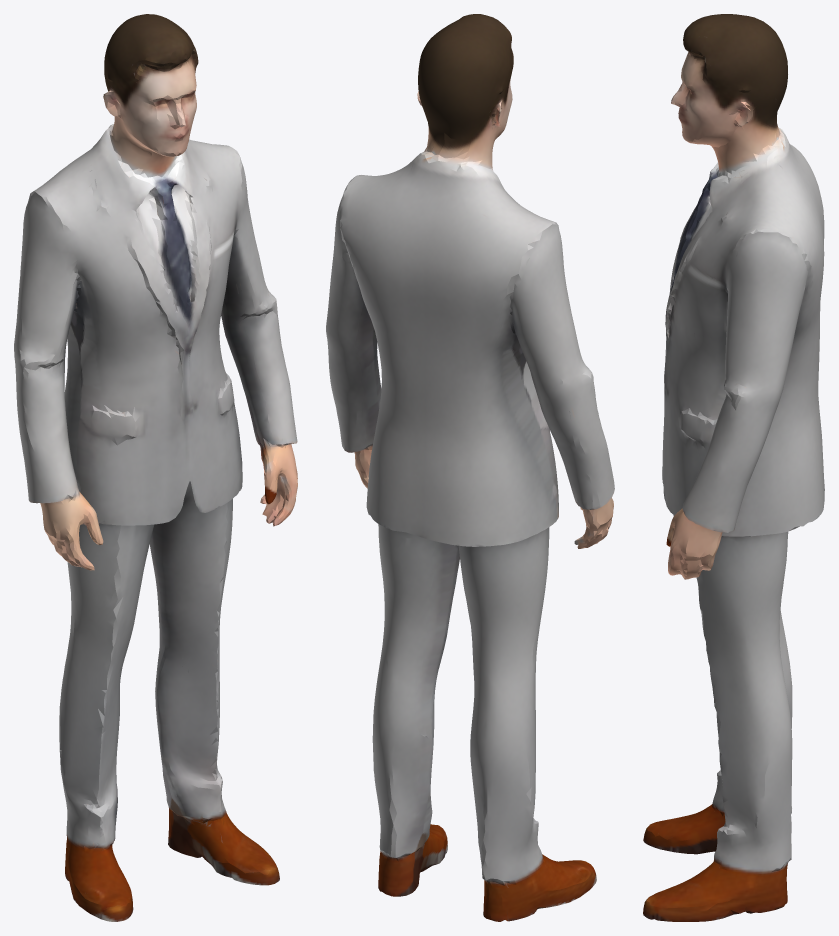
Rendered from spring_upgraded.glb.
3 renders of one model, left to right at view 1: azimuth 30°, elevation 25°; view 2: azimuth 150°, elevation 25°; view 3: azimuth 270°, elevation 25°, orthographic.
Visible parts, largest first — view 1: spring_upgraded; view 2: spring_upgraded; view 3: spring_upgraded.
Boxes of the visible parts, bbox=[...] form: spring_upgraded: bbox=[14, 14, 297, 921]; spring_upgraded: bbox=[326, 14, 614, 921]; spring_upgraded: bbox=[643, 14, 824, 921].
Size of the model in its own units: 0.6102 by 1.9 by 0.3656.
1 material, 1 textured.
